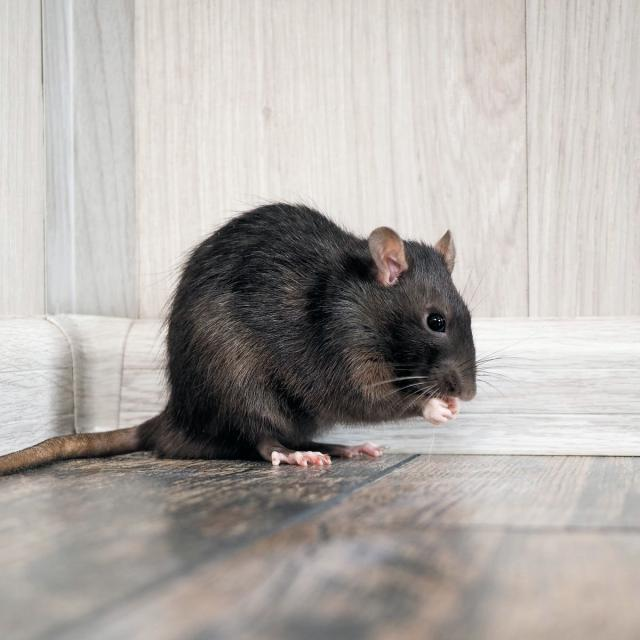rat: (0, 203, 476, 474)
